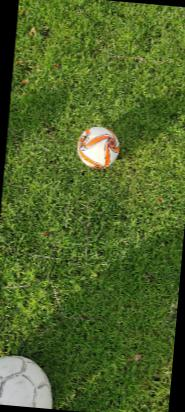Football mini: (72, 123, 123, 172)
